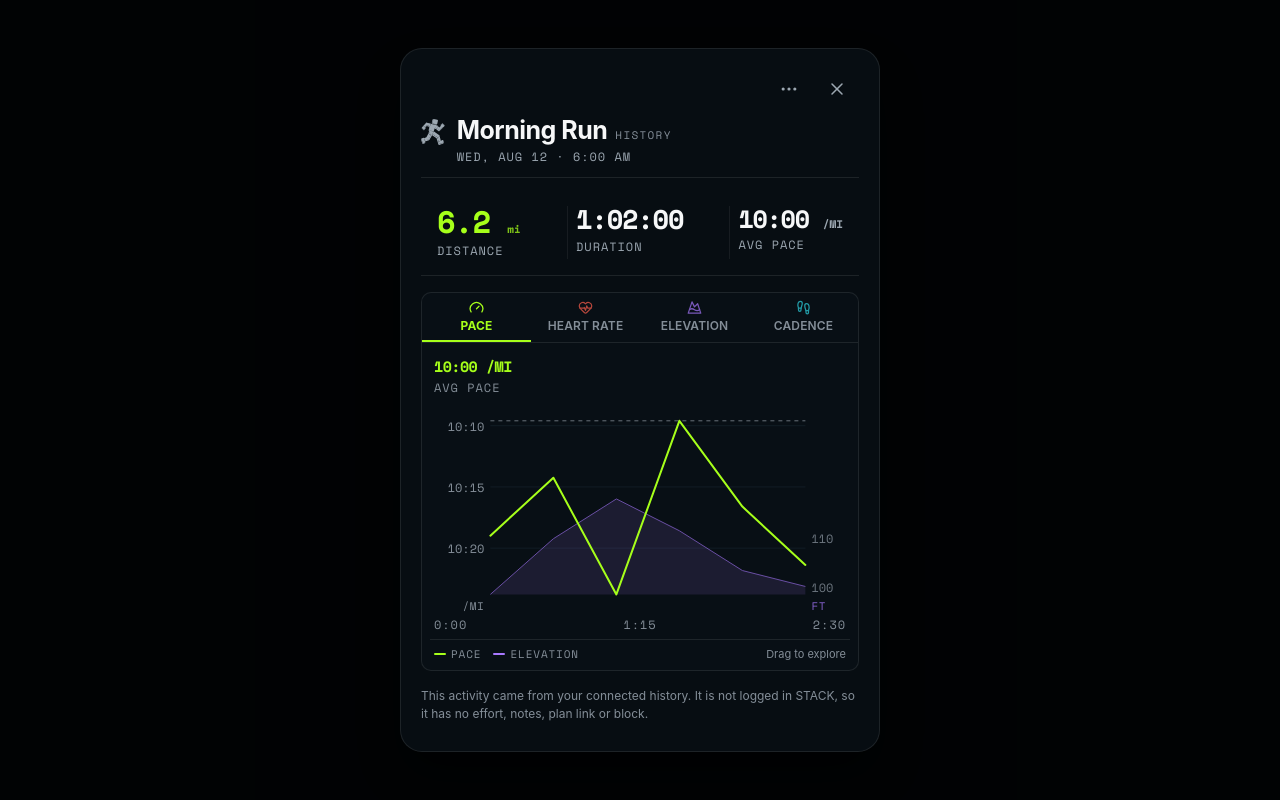
Scenario: historical-only source truth › states the run's own pace and the source's own aggregates, never the stream's
Expected: the element named "Primary activity results" shows "10:00 /MI", [421,190,859,276]
Expected: the text "10:00 /MI" is shown, [434,355,512,377]
Click the button "Heart Rate". click: (586, 318)
box: [531,293,640,342]
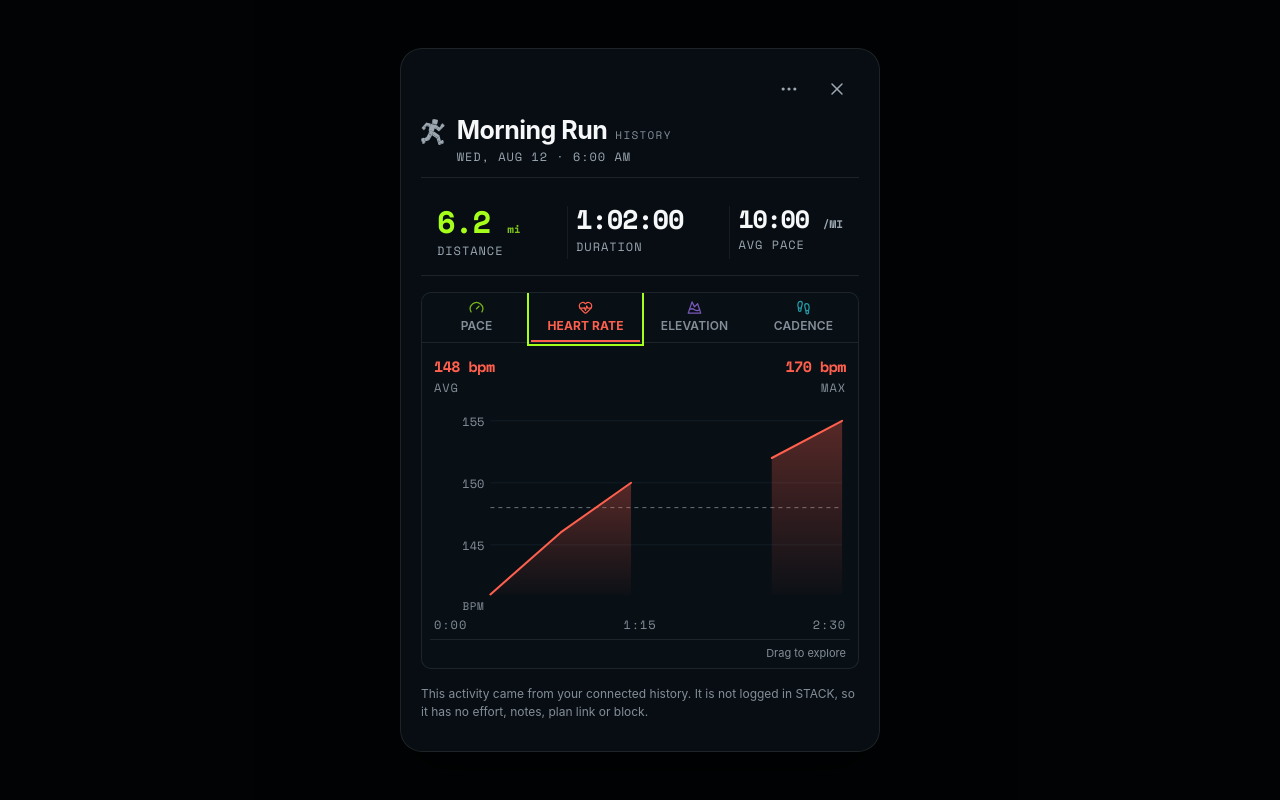
Expected: the text "148 bpm" is shown, [434,355,495,377]
Expected: the text "170 bpm" is shown, [785,355,846,377]
Click the button "Elevation". click: (694, 318)
box: [640,293,749,342]
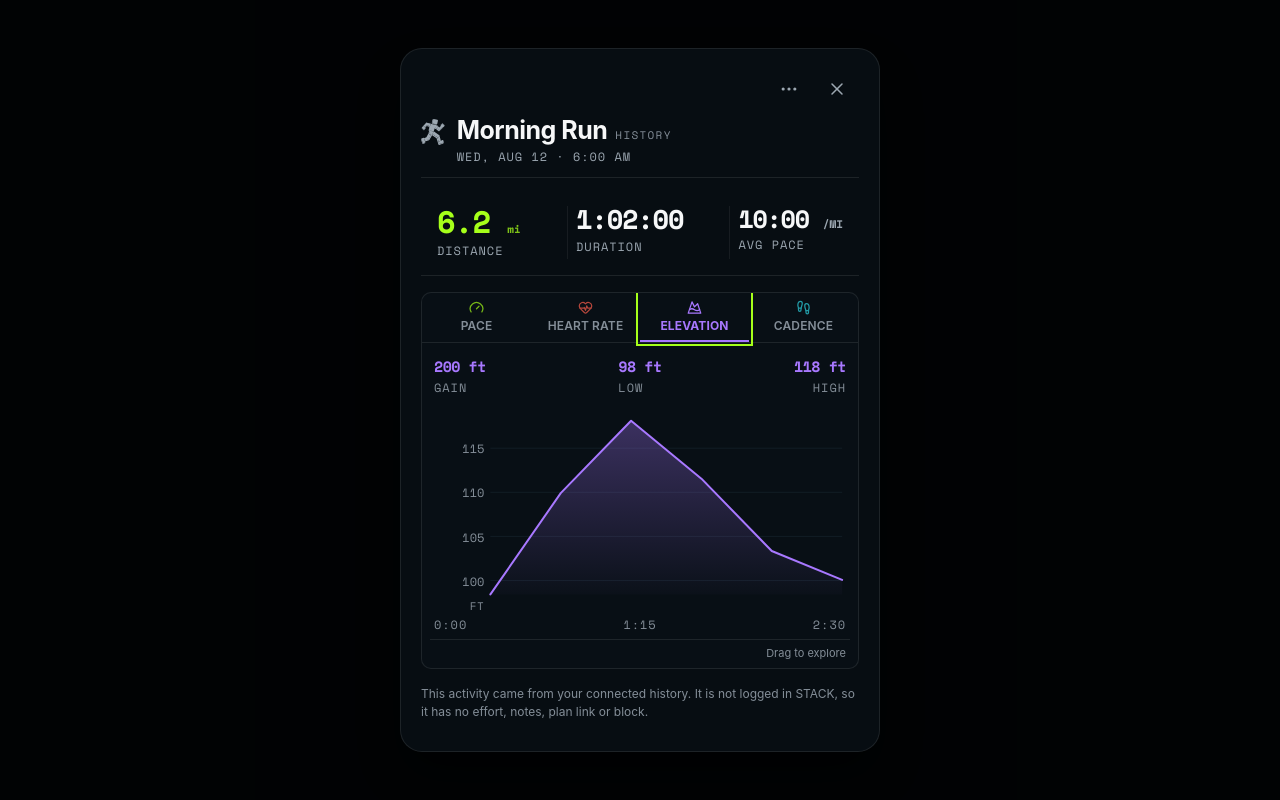
Expected: the text "200 ft" is shown, [434,355,486,377]
